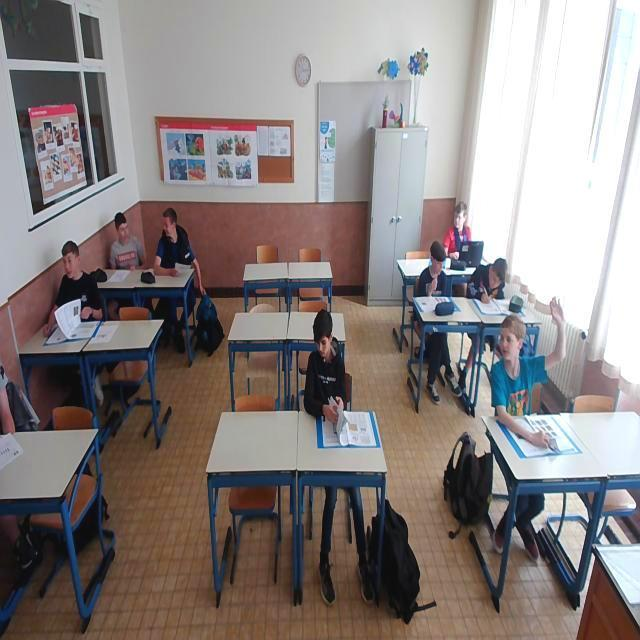Looking away: (148, 194, 206, 275), (426, 240, 454, 274), (448, 198, 472, 234), (110, 212, 134, 244)
Looking forward: (314, 306, 340, 370), (58, 238, 88, 282)
Raising hand: (496, 292, 568, 456)
Reading-writing: (463, 260, 521, 306)
